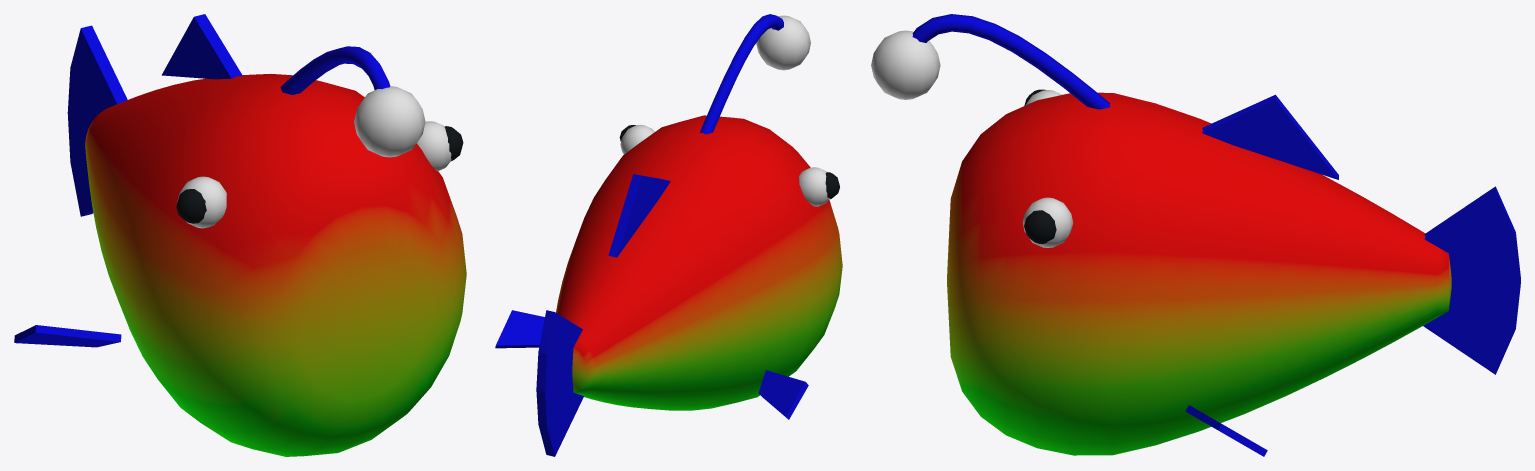
Rendered from fish_angler.glb.
3 renders of one model, left to right at view 1: azimuth 30°, elevation 25°; view 2: azimuth 150°, elevation 25°; view 3: azimuth 270°, elevation 25°, orthographic. The views are drawn at different scales.
Visible parts, largest first — view 1: Body, Glow, Eye; view 2: Body, Glow, Eye; view 3: Body, Glow, Eye.
Part boxes in pixels (bbox=[...]): Body: bbox=[14, 14, 466, 456]; Glow: bbox=[354, 86, 425, 157]; Eye: bbox=[176, 121, 463, 228]; Body: bbox=[495, 14, 842, 456]; Glow: bbox=[756, 15, 810, 70]; Eye: bbox=[619, 124, 839, 206]; Body: bbox=[912, 14, 1520, 456]; Glow: bbox=[871, 30, 940, 99]; Eye: bbox=[1022, 89, 1073, 247].
Size of the model in its own units: 0.6873 by 0.745 by 1.03.
